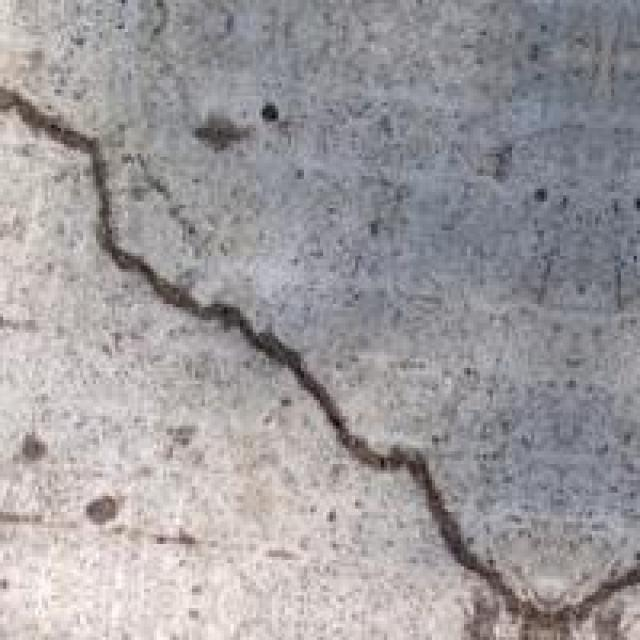Crack: (3, 93, 637, 630)
